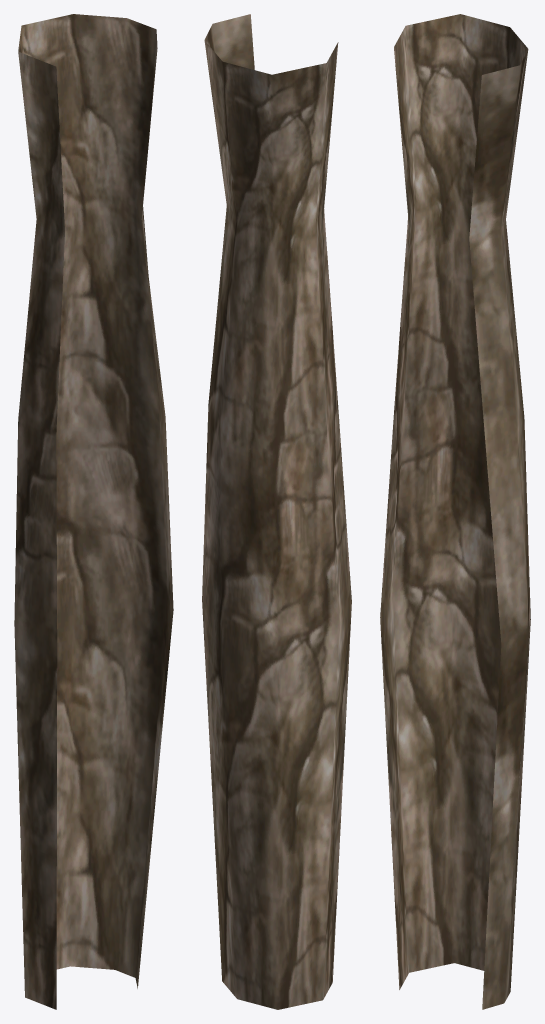
Rendered from OVERHILL_A_01_LINE348.fbx.
The picture shows the model from 3 angles, left to right: view 1: azimuth 30°, elevation 25°; view 2: azimuth 150°, elevation 25°; view 3: azimuth 330°, elevation 25°; orthographic projection.
Visible parts, largest first — view 1: OVERHILL_A_01_LINE348; view 2: OVERHILL_A_01_LINE348; view 3: OVERHILL_A_01_LINE348.
Part boxes in pixels (box(x1,y1,x2,y2)): OVERHILL_A_01_LINE348: box(14, 14, 173, 1009); OVERHILL_A_01_LINE348: box(202, 14, 351, 1009); OVERHILL_A_01_LINE348: box(380, 14, 530, 1009).
Bounding box in the file's own units: 23405 × 147071 × 16760.
1 material, 1 textured.
